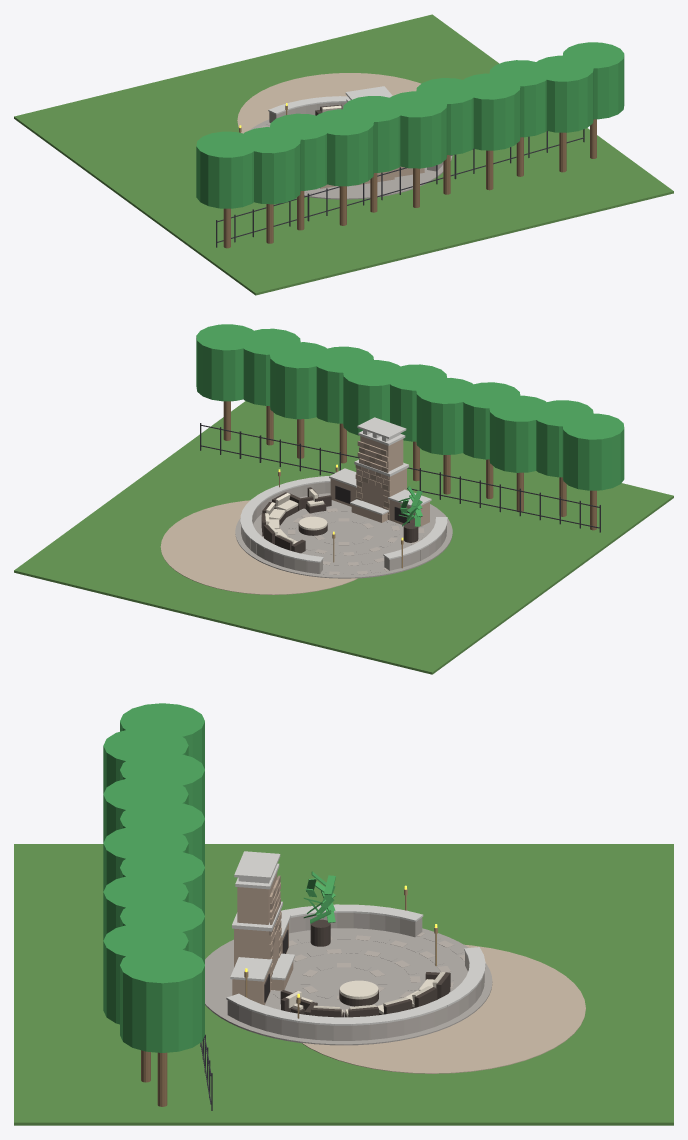
The model's file is outdoor-stone-fireplace-lounge-v1-world.glb.
3 views of the same model, one above another, from view 1: azimuth 30°, elevation 25°; view 2: azimuth 150°, elevation 25°; view 3: azimuth 270°, elevation 25° (orthographic). The views are drawn at different scales.
Parts seen in each view (by area): view 1: Ground_Lawn, TreeCanopy_00, Foreground_Gravel_Bed, TreeCanopy_07, TreeCanopy_09, TreeCanopy_05, TreeCanopy_03, TreeCanopy_01, TreeCanopy_10, TreeCanopy_08, TreeCanopy_06, TreeCanopy_02 (+3 smaller); view 2: Ground_Lawn, Foreground_Gravel_Bed, Patio_Flagstone_Deck, TreeCanopy_00, TreeCanopy_10, TreeCanopy_08, TreeCanopy_04, TreeCanopy_02, TreeCanopy_06, TreeCanopy_01, TreeCanopy_09, TreeCanopy_07 (+7 smaller); view 3: Ground_Lawn, Foreground_Gravel_Bed, Patio_Flagstone_Deck, TreeCanopy_10, TreeCanopy_09, TreeCanopy_00, TreeCanopy_04, TreeCanopy_07, TreeCanopy_03, TreeCanopy_06, TreeCanopy_01, TreeCanopy_08 (+7 smaller).
Boxes of the visible parts, x1=… form: Ground_Lawn: x1=14, y1=14, x2=673, y2=295; TreeCanopy_00: x1=196, y1=131, x2=258, y2=208; Foreground_Gravel_Bed: x1=237, y1=73, x2=420, y2=133; TreeCanopy_07: x1=459, y1=73, x2=520, y2=150; TreeCanopy_09: x1=532, y1=55, x2=593, y2=132; TreeCanopy_05: x1=385, y1=91, x2=447, y2=168; TreeCanopy_03: x1=312, y1=109, x2=373, y2=186; TreeCanopy_01: x1=244, y1=127, x2=300, y2=204; TreeCanopy_10: x1=563, y1=42, x2=624, y2=119; TreeCanopy_08: x1=489, y1=60, x2=550, y2=137; TreeCanopy_06: x1=416, y1=78, x2=477, y2=155; TreeCanopy_02: x1=269, y1=113, x2=331, y2=190; Ground_Lawn: x1=14, y1=401, x2=673, y2=674; Foreground_Gravel_Bed: x1=160, y1=500, x2=357, y2=594; Patio_Flagstone_Deck: x1=235, y1=493, x2=452, y2=578; TreeCanopy_00: x1=562, y1=413, x2=624, y2=490; TreeCanopy_10: x1=196, y1=324, x2=257, y2=401; TreeCanopy_08: x1=269, y1=342, x2=330, y2=419; TreeCanopy_04: x1=416, y1=378, x2=477, y2=454; TreeCanopy_02: x1=489, y1=395, x2=549, y2=472; TreeCanopy_06: x1=343, y1=360, x2=402, y2=435; TreeCanopy_01: x1=532, y1=400, x2=593, y2=477; TreeCanopy_09: x1=239, y1=328, x2=300, y2=405; TreeCanopy_07: x1=312, y1=346, x2=373, y2=423; Ground_Lawn: x1=14, y1=844, x2=673, y2=1125; Foreground_Gravel_Bed: x1=302, y1=944, x2=585, y2=1073; Patio_Flagstone_Deck: x1=205, y1=928, x2=492, y2=1045; TreeCanopy_10: x1=120, y1=949, x2=204, y2=1052; TreeCanopy_09: x1=103, y1=923, x2=188, y2=1024; TreeCanopy_00: x1=120, y1=703, x2=204, y2=768; TreeCanopy_04: x1=120, y1=801, x2=204, y2=866; TreeCanopy_07: x1=103, y1=874, x2=188, y2=940; TreeCanopy_03: x1=103, y1=776, x2=188, y2=842; TreeCanopy_06: x1=120, y1=849, x2=204, y2=915; TreeCanopy_01: x1=103, y1=728, x2=188, y2=793; TreeCanopy_08: x1=120, y1=898, x2=204, y2=964.
Bounding box in the file's own units: 24.1 × 5.74 × 24.
